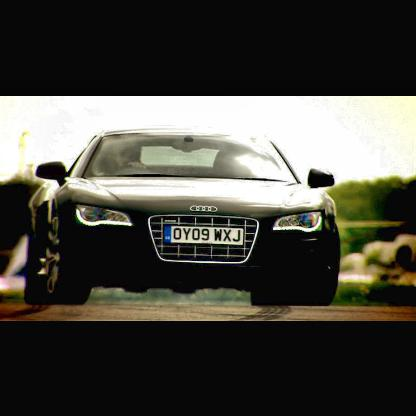Audi R8 Coupe 2012: (30, 128, 343, 304)
